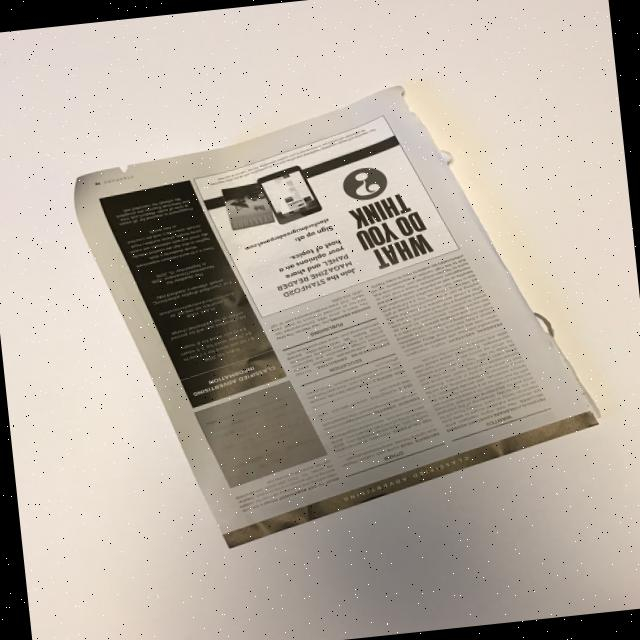paper: (64, 67, 612, 560)
